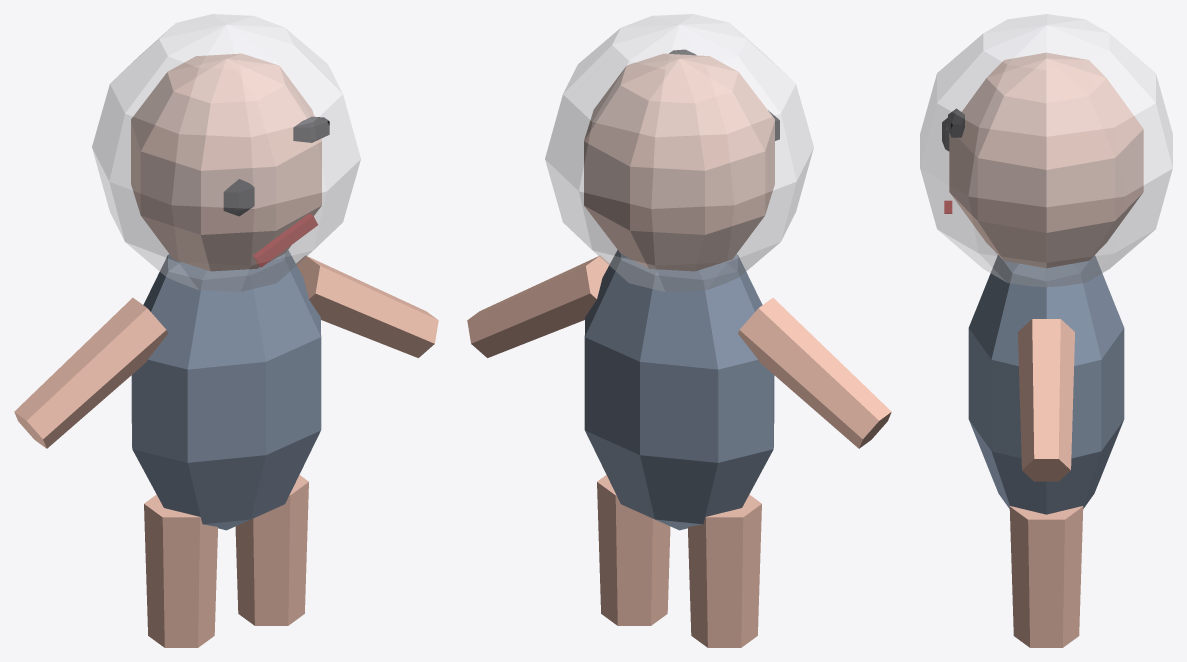
Rendered from reject_captain.glb.
3 renders of one model, left to right at view 1: azimuth 30°, elevation 25°; view 2: azimuth 150°, elevation 25°; view 3: azimuth 270°, elevation 25°, orthographic.
Visible parts, largest first — view 1: bubble_helmet_white, body_captain_suit, head_doll_plastic, legs_doll_plastic, arms_doll_plastic, eyes_doll_eyes_paint (×2), mouth_doll_mouth_paint; view 2: bubble_helmet_white, body_captain_suit, head_doll_plastic, legs_doll_plastic, arms_doll_plastic; view 3: bubble_helmet_white, head_doll_plastic, body_captain_suit, legs_doll_plastic, arms_doll_plastic, eyes_doll_eyes_paint.
Part boxes in pixels (x1,y1,x2,y2): bubble_helmet_white: [92, 14, 360, 291]; body_captain_suit: [131, 250, 321, 530]; head_doll_plastic: [131, 53, 321, 271]; legs_doll_plastic: [144, 475, 308, 647]; arms_doll_plastic: [14, 255, 438, 448]; eyes_doll_eyes_paint (×2): [223, 116, 329, 216]; mouth_doll_mouth_paint: [253, 213, 317, 267]; bubble_helmet_white: [545, 14, 813, 291]; body_captain_suit: [584, 250, 774, 530]; head_doll_plastic: [584, 53, 774, 271]; legs_doll_plastic: [597, 475, 761, 647]; arms_doll_plastic: [467, 255, 891, 448]; bubble_helmet_white: [920, 14, 1172, 287]; head_doll_plastic: [949, 52, 1143, 268]; body_captain_suit: [968, 255, 1124, 514]; legs_doll_plastic: [1009, 506, 1083, 647]; arms_doll_plastic: [1018, 319, 1074, 481]; eyes_doll_eyes_paint: [948, 108, 964, 137].
Bounding box in the file's own units: 0.2285 × 0.318 × 0.1236.
